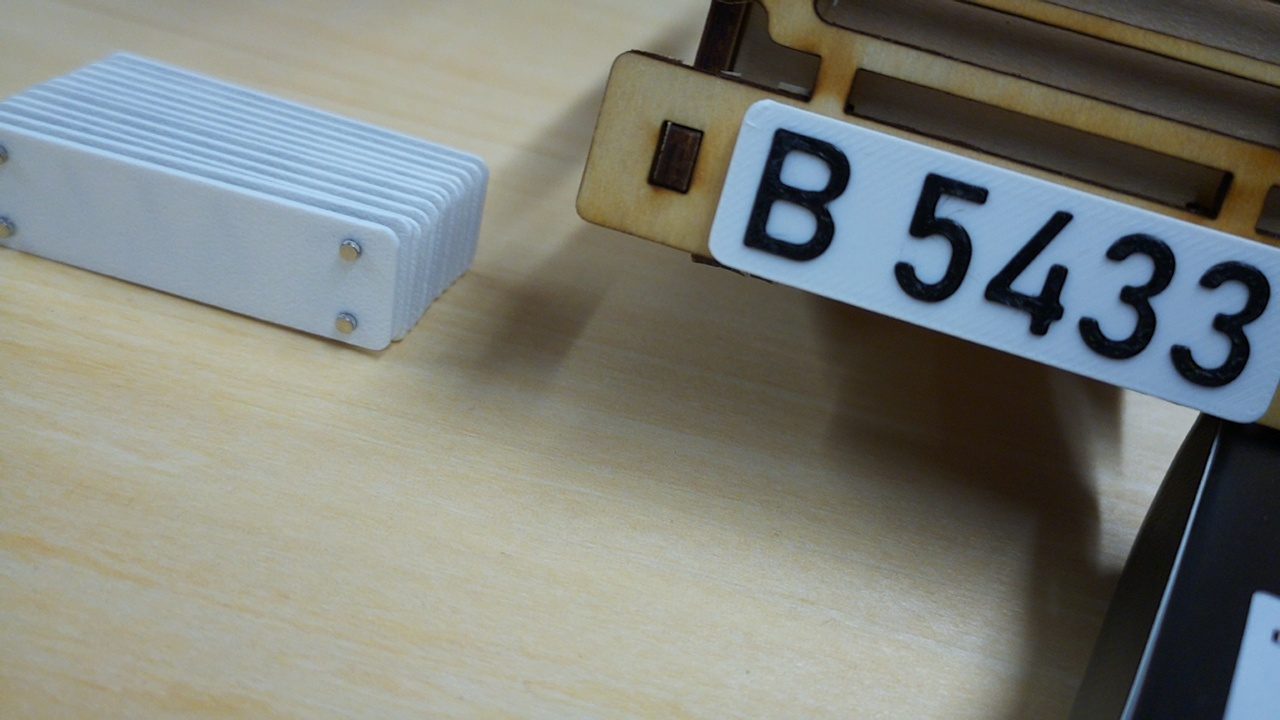license_plate: (706, 97, 1280, 427)
